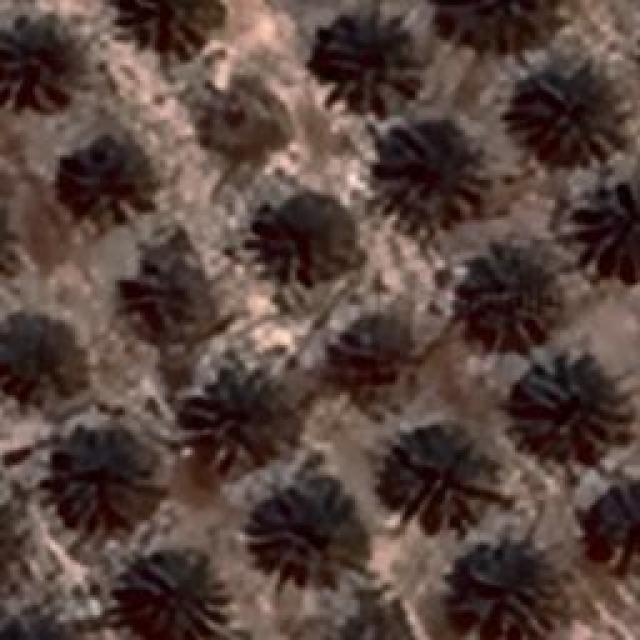PalmTree: (73, 60, 615, 522), (50, 98, 168, 303), (378, 418, 500, 532), (245, 480, 370, 590), (41, 436, 164, 536), (512, 348, 630, 442), (514, 58, 618, 162), (188, 366, 302, 459), (315, 12, 420, 112), (384, 131, 488, 229), (451, 550, 561, 638), (260, 198, 375, 282), (120, 555, 230, 635), (0, 308, 90, 402), (460, 257, 552, 345), (334, 318, 412, 394), (437, 0, 555, 50), (577, 189, 640, 279), (70, 142, 152, 210), (0, 17, 72, 92), (120, 0, 222, 48), (319, 607, 412, 640), (0, 485, 28, 589), (0, 612, 82, 640), (0, 193, 19, 290), (0, 488, 19, 584), (0, 619, 85, 640), (0, 192, 15, 290), (0, 194, 11, 290)
